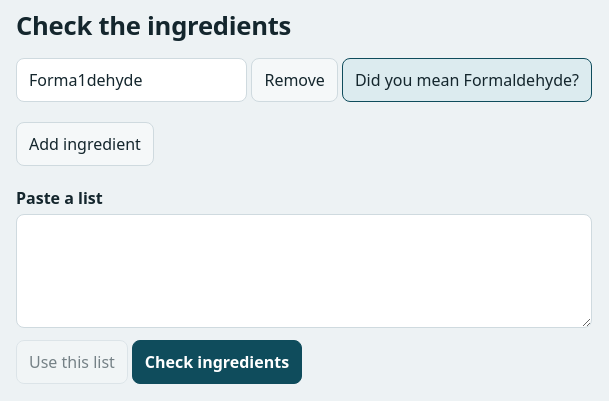
it: review: suggestion button replaces the row text
Click the button "Did you mean Formaldehyde?" at {"x": 467, "y": 80}, box [342,58,592,102]
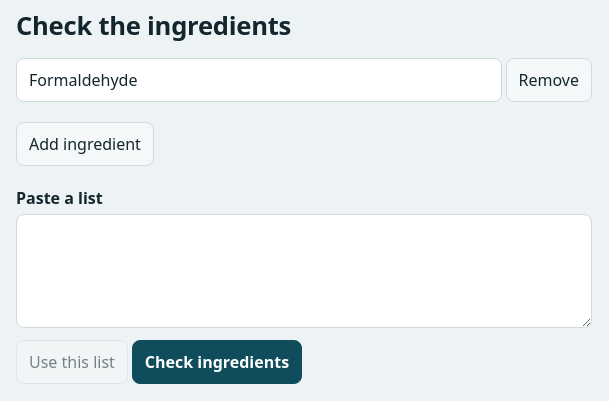
Expected: the field showing "Formaldehyde" is shown, [16,58,502,102]
